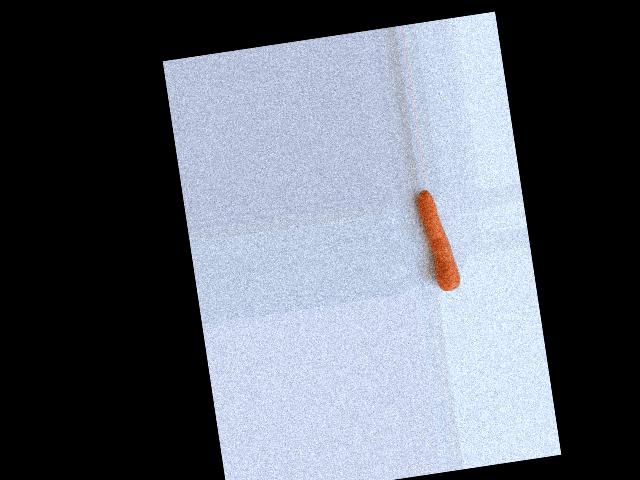carrot: (414, 187, 461, 294)
